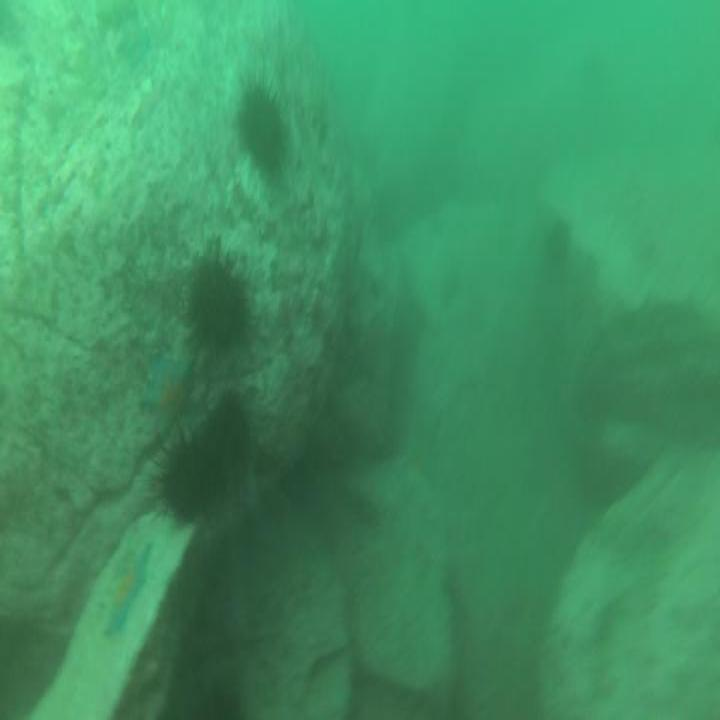echinus: (182, 244, 254, 366), (149, 419, 219, 540), (234, 68, 290, 192), (539, 213, 575, 272)
starfish: (136, 347, 198, 444), (98, 544, 150, 649)
